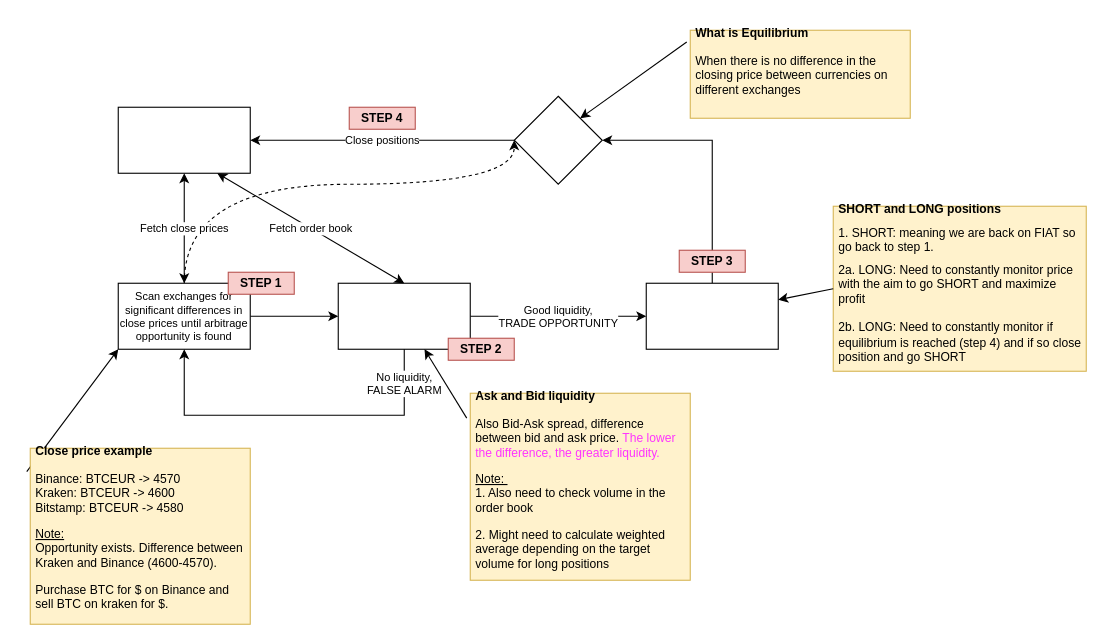
Some shapes in this 1107 by 644 pixel diagram are drawn without their labels. The shapes that lost their labels are listed below. From the top down, each one's centre as x and y in pixels, then its label:
the point at 183,139: Exchanges
the point at 557,139: Equilibrium reached?
the point at 403,315: Fetch order book to check ASK&BID liquidity
the point at 711,315: Take SHORT & LONG positions
